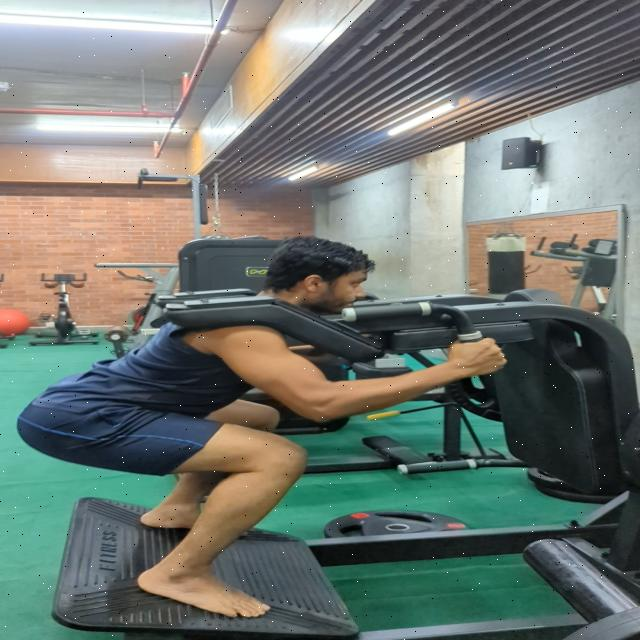Normal_SquatsWithBarbell: (7, 152, 640, 639)
